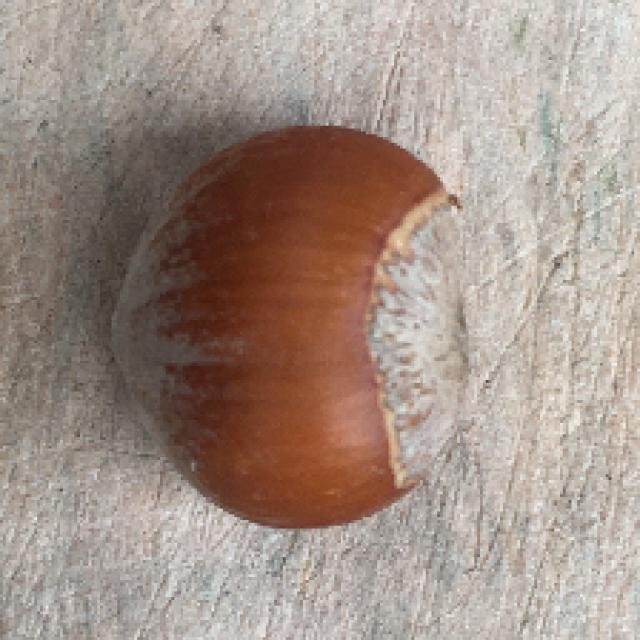qualityHazelnut: (108, 120, 477, 531)
